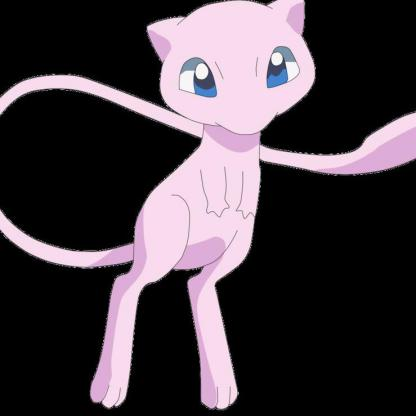Mew: (1, 14, 386, 397)
